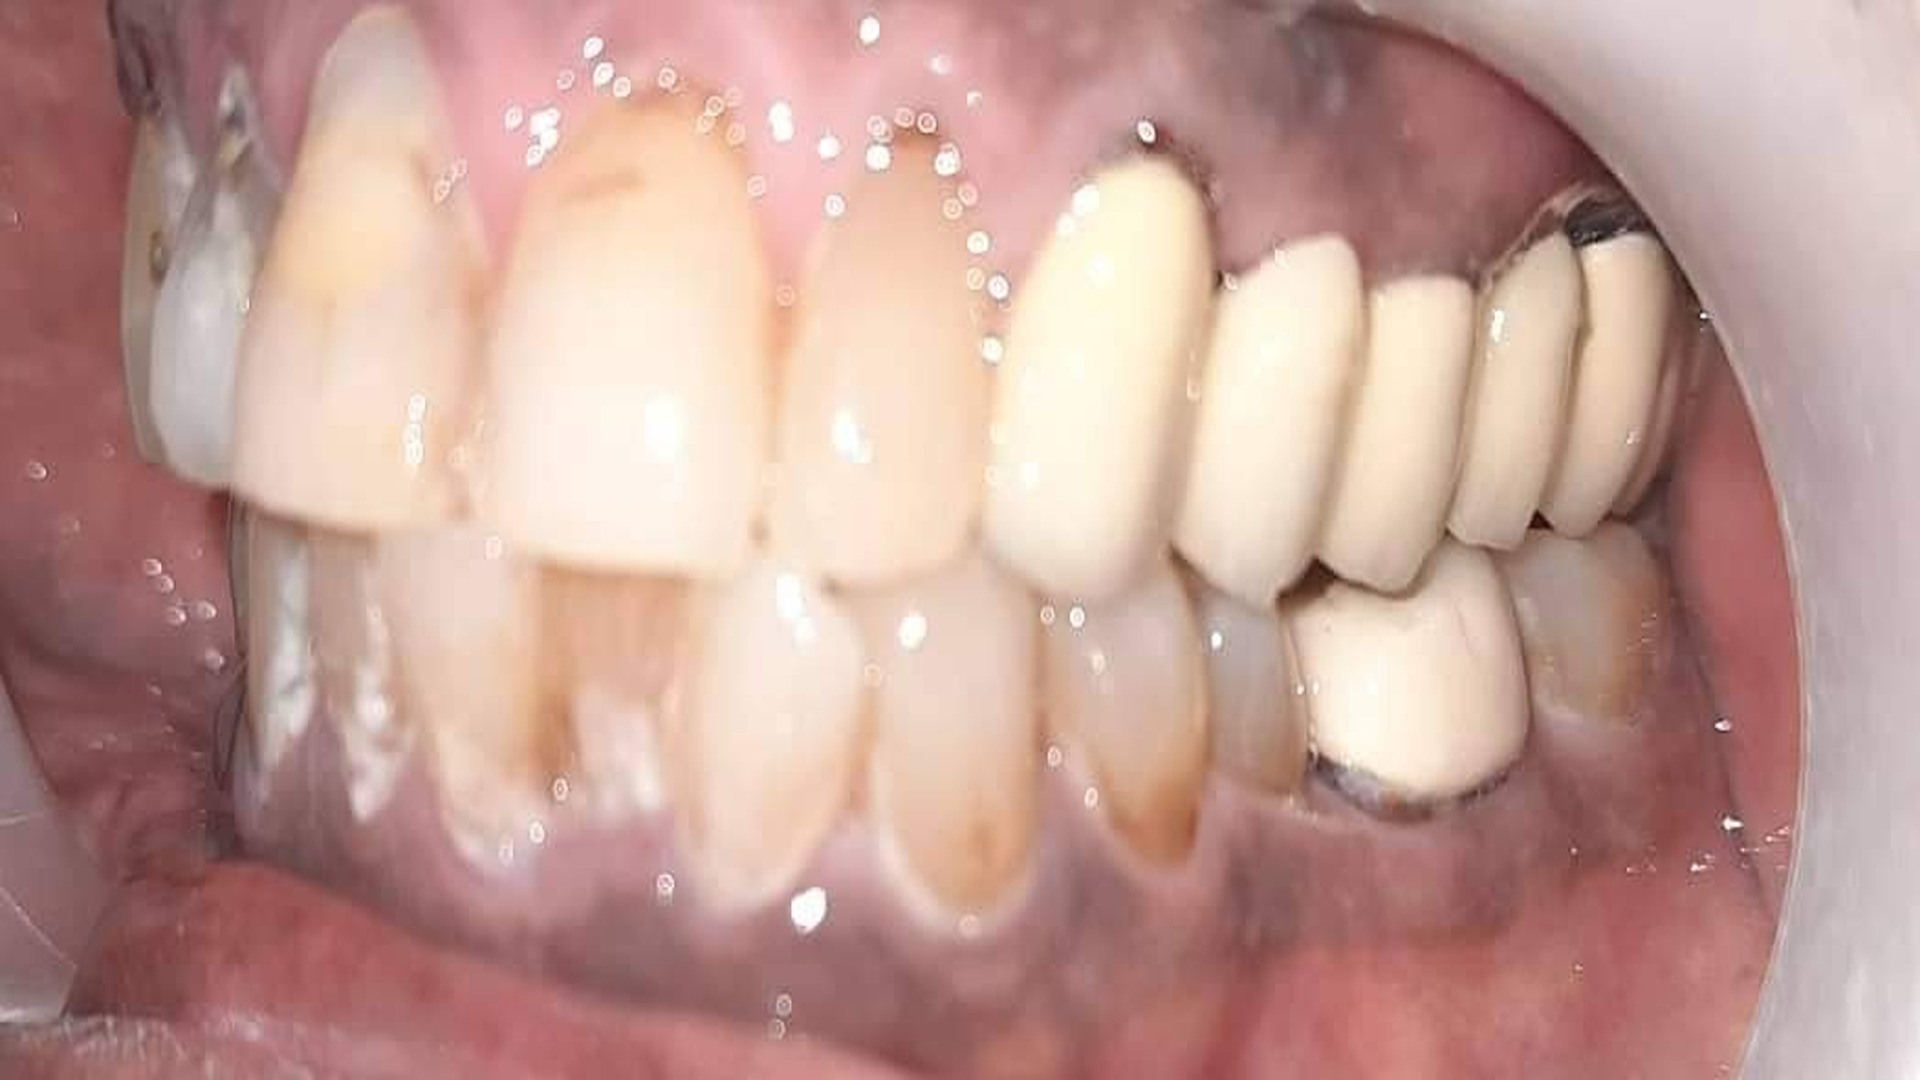tooth: (475, 90, 774, 578), (981, 120, 1200, 607), (1184, 233, 1363, 615), (1277, 537, 1531, 805), (1316, 276, 1475, 594), (1538, 233, 1688, 537), (1489, 521, 1673, 740), (1454, 233, 1580, 552)
